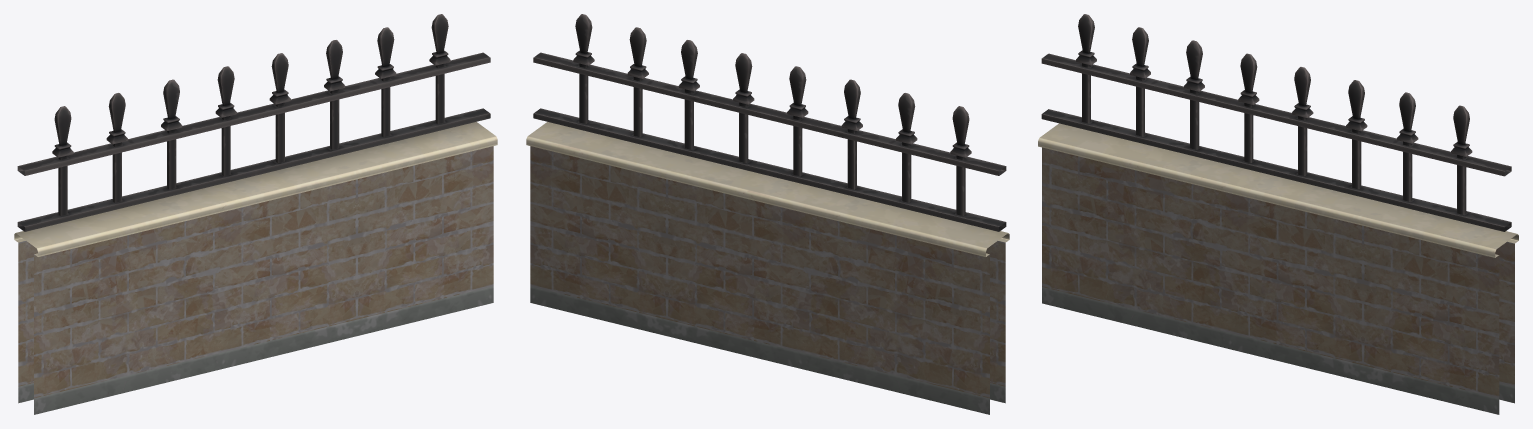
The model's file is StreetFence02_A8.FBX.
3 renders of one model, left to right at view 1: azimuth 30°, elevation 25°; view 2: azimuth 150°, elevation 25°; view 3: azimuth 330°, elevation 25°, orthographic.
Parts seen in each view (by area): view 1: StreetFence02_A8; view 2: StreetFence02_A8; view 3: StreetFence02_A8.
Part boxes in pixels (x1,y1,x2,y2): StreetFence02_A8: (14, 14, 497, 414); StreetFence02_A8: (526, 14, 1009, 414); StreetFence02_A8: (1038, 14, 1518, 414).
Size of what is drawn, in the model's own units: 3.03 by 1.83 by 0.2685.
